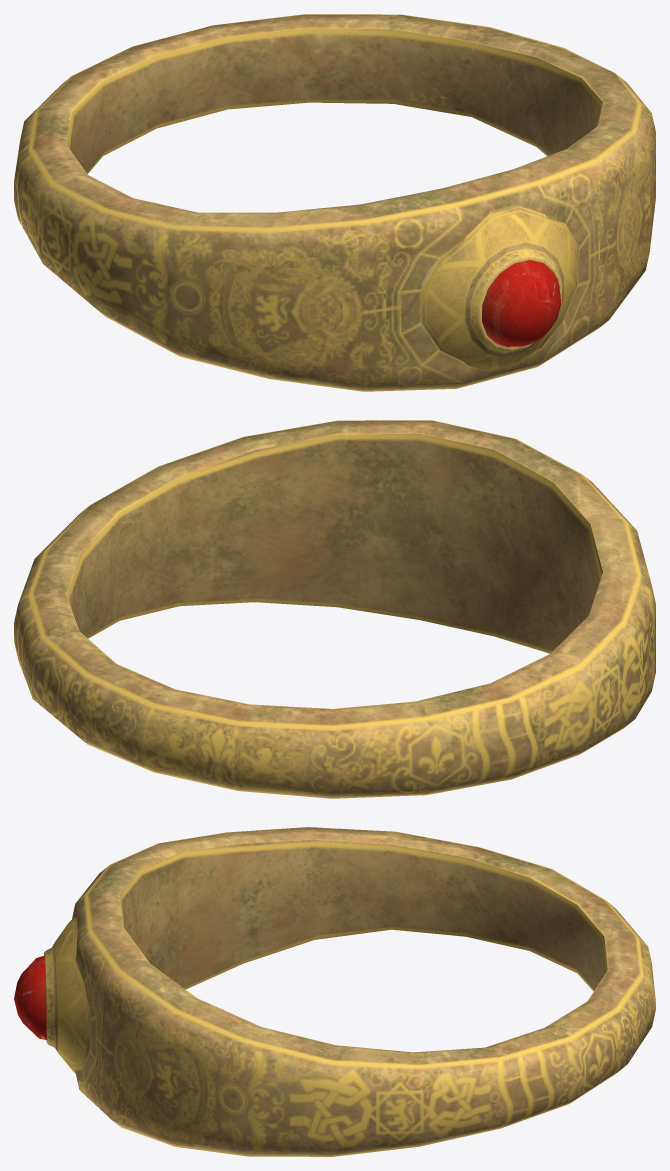
File: ring.gltf
3 views of the same model, one above another, from view 1: azimuth 30°, elevation 25°; view 2: azimuth 150°, elevation 25°; view 3: azimuth 270°, elevation 25° (orthographic). The views are drawn at different scales.
Parts seen in each view (by area): view 1: Tube001; view 2: Tube001; view 3: Tube001.
Boxes of the visible parts, x1,y1,x2,y2 form: Tube001: (14,14,655,391); Tube001: (14,420,655,798); Tube001: (14,827,655,1156).
Bounding box in the file's own units: 1.82 × 0.6042 × 2.
